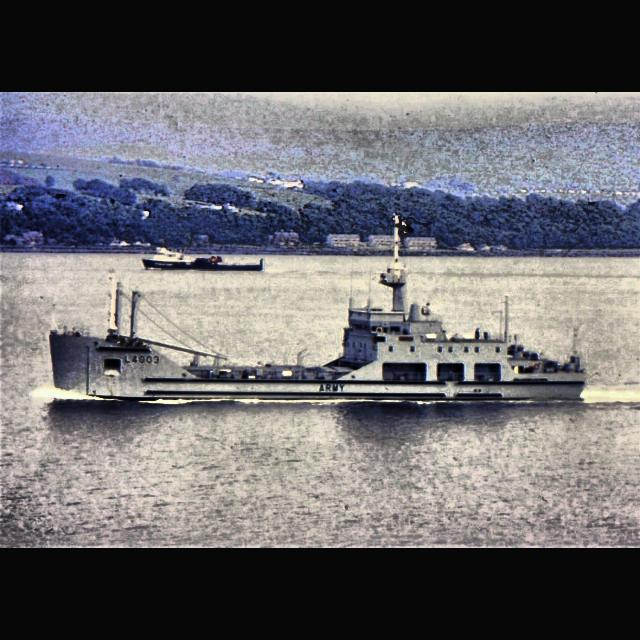combat_vessel: (49, 212, 588, 404)
